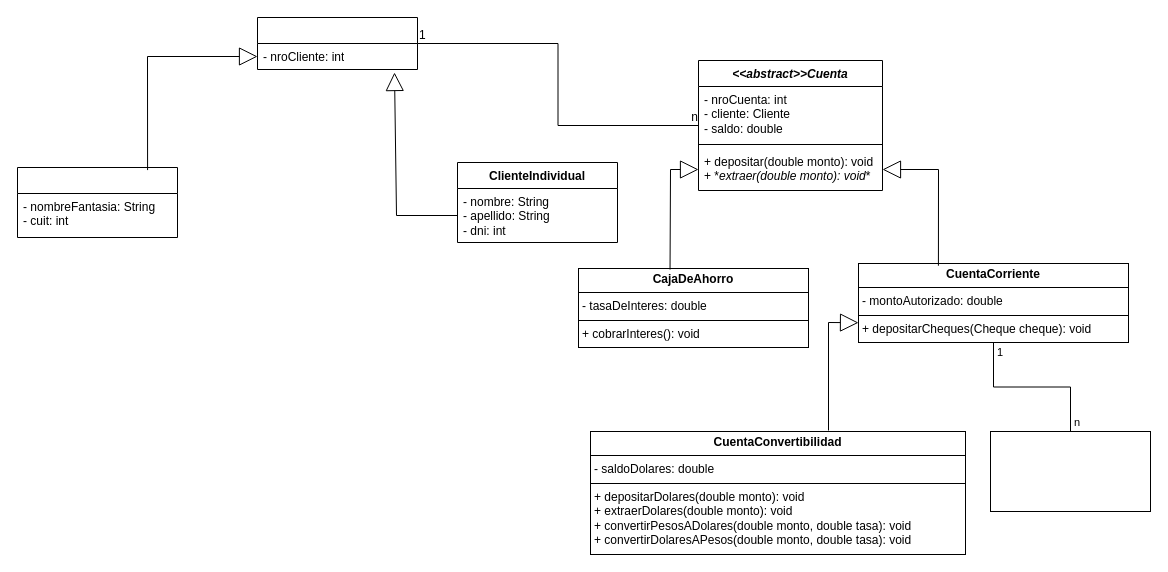
Image size: 1168x572. Some labels were removed from this diagram. The shapes that lost their labels are listed below. From the top down, each one's box as (x1, y1, x2, y2) in pixels, then its label:
(256, 16, 418, 70): <<abstract>> Cliente
(16, 166, 178, 238): ClienteEmpresa
(990, 430, 1150, 512): Cheque - monto: double - bancoEmisor: String - fechaDePago: LocalDate
